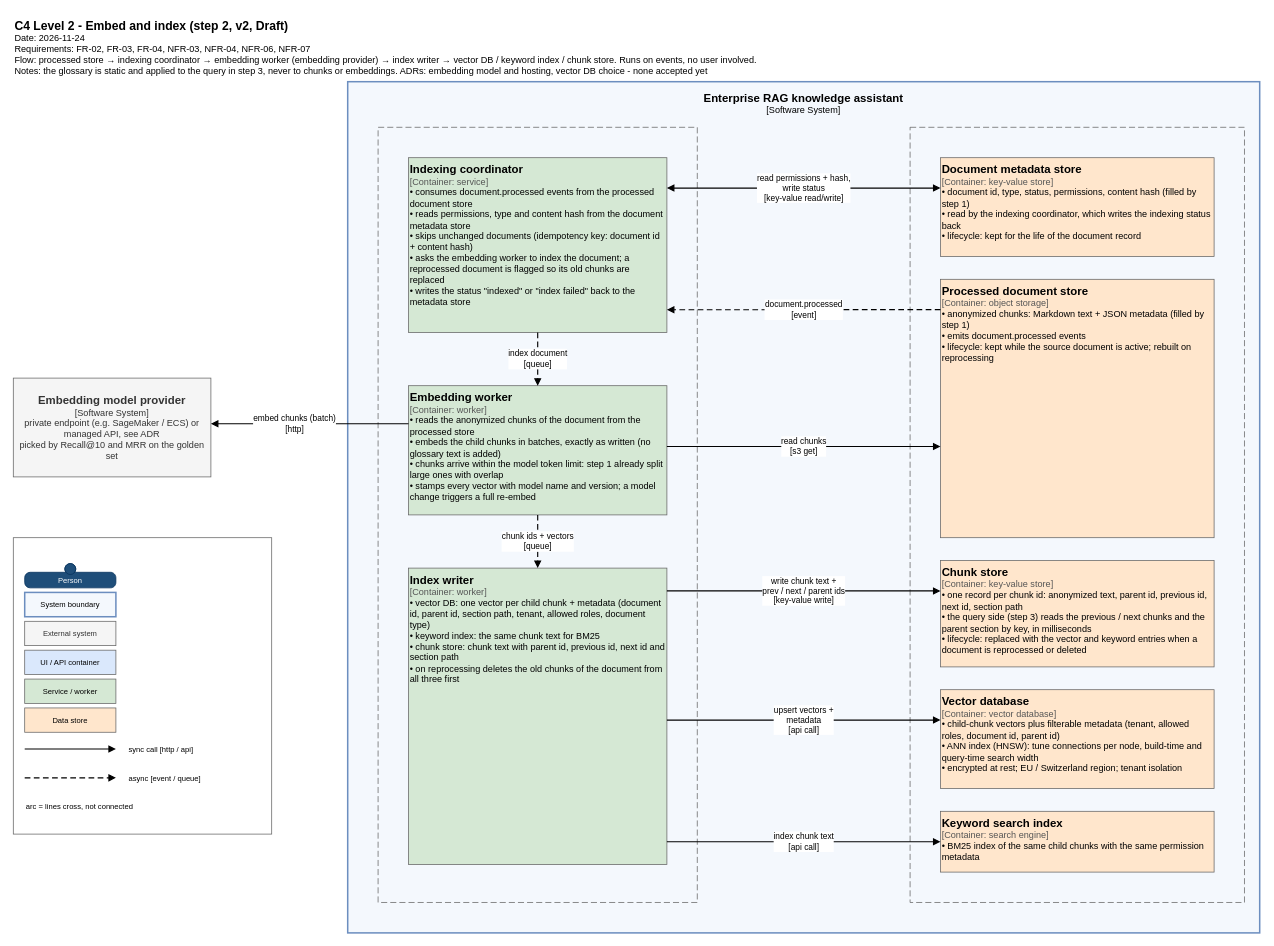
This 1274x946 diagram has some shape labels left out. Here are the shapes that lost their labels. From the top down, the box of each, then its label:
(377, 127, 697, 902): Backend
(909, 127, 1244, 902): Repositories (DBs)
(13, 537, 272, 834): Legend
